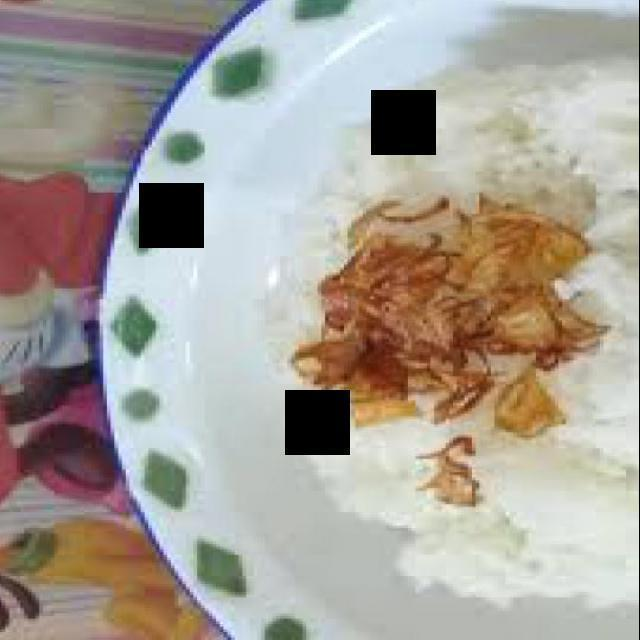Rice: (260, 52, 640, 596)
